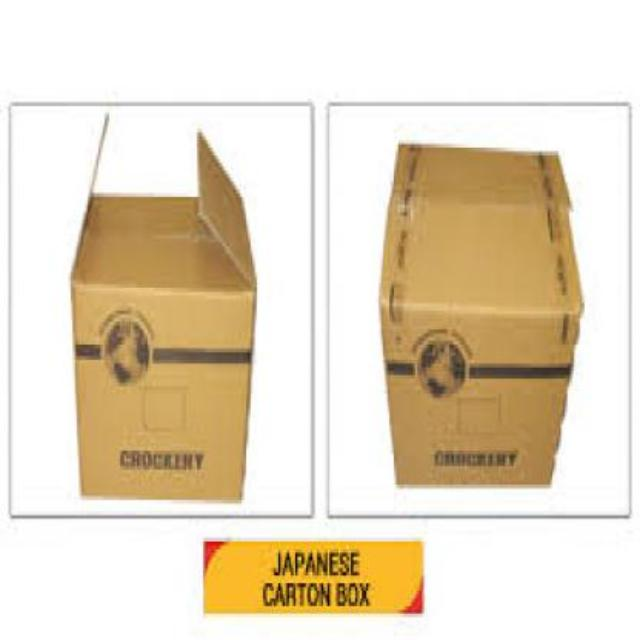cardboard_box: (69, 119, 267, 505), (373, 134, 574, 490)
